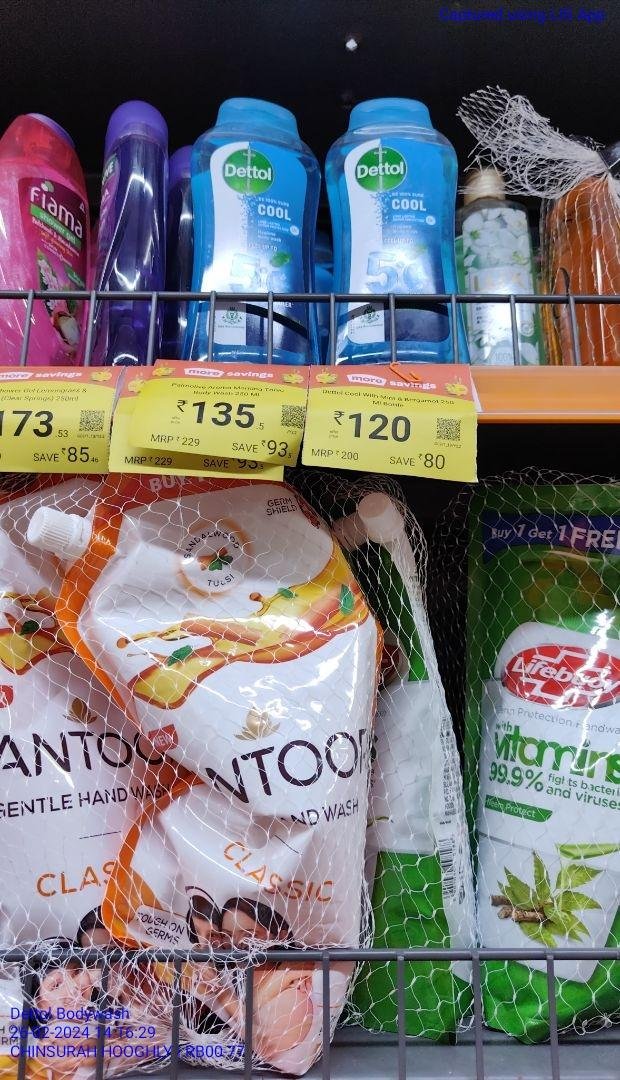Dettol_Bodywash_Cool: (326, 97, 470, 362), (190, 93, 324, 363)
Fiama_Shower_Gel_Patchouli_and_Macadamia_250ML: (0, 103, 89, 363)
